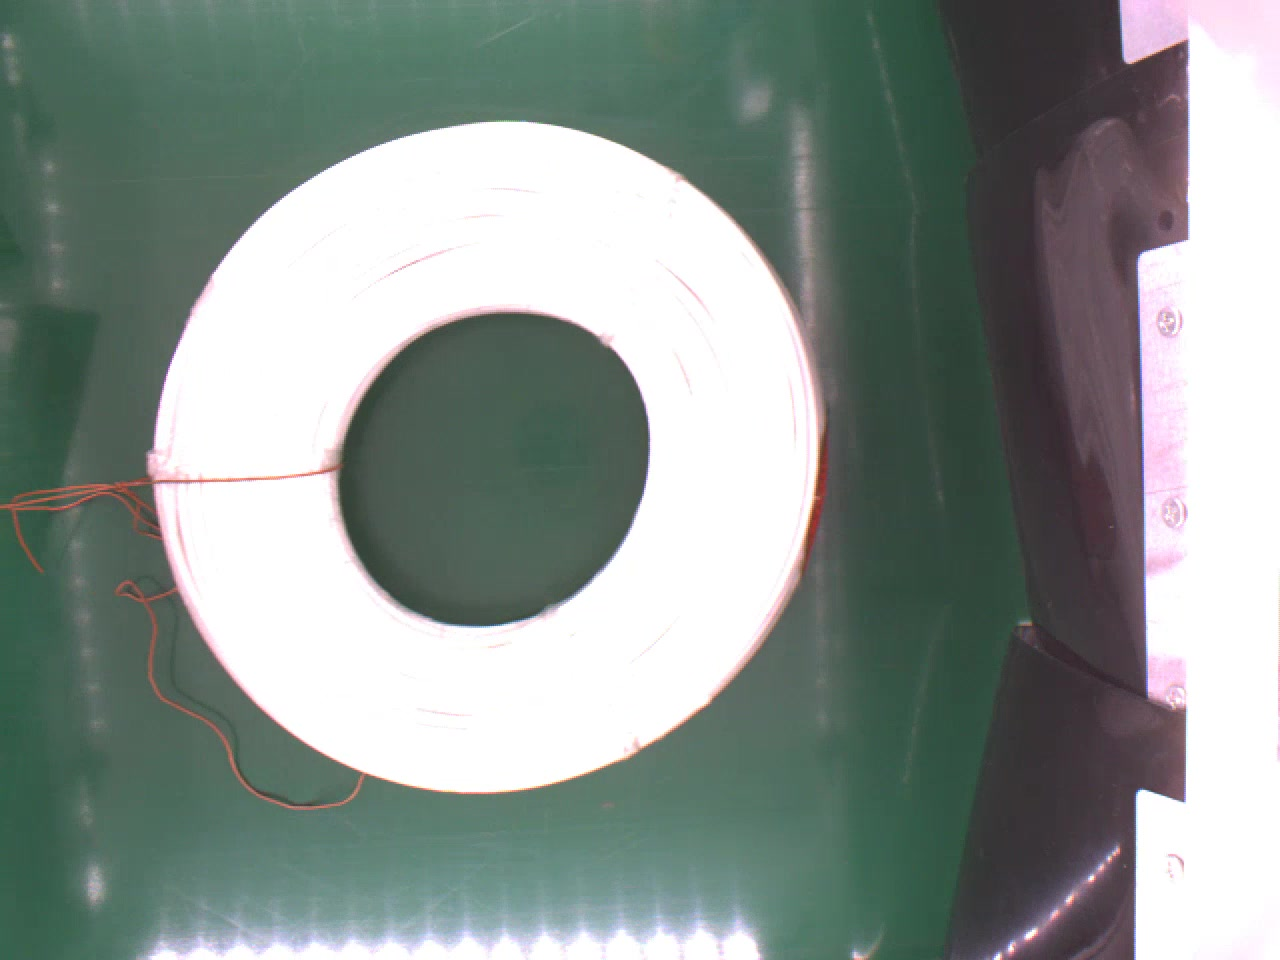white: (143, 111, 836, 793)
